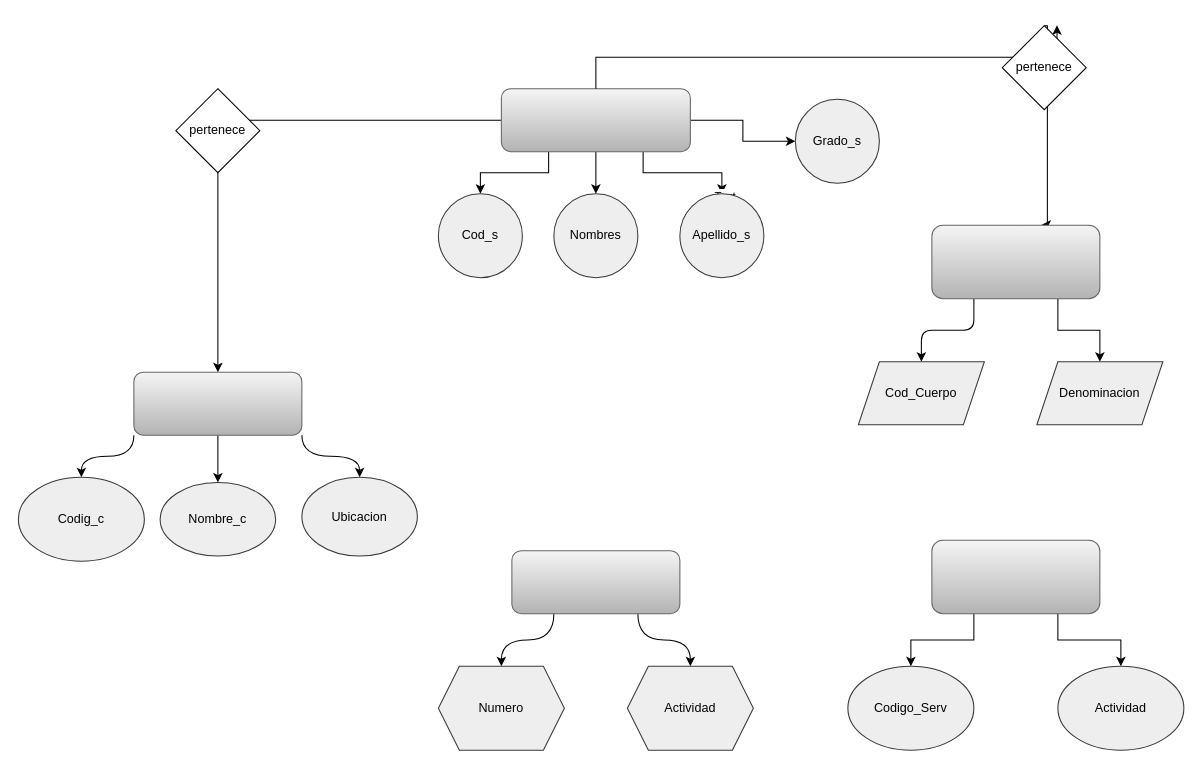
The diagram is 1202 pixels wide and 770 high, and some of its shapes have lost their labels. The box of each missing label's shape, as (x1, y1, x2, y2) in pixels:
COMPAÑIA: (511, 550, 680, 614)
CUARTELES: (133, 371, 302, 435)
CUERPO_E: (931, 224, 1100, 299)
SENIL: (931, 539, 1100, 614)
SOLDADO: (500, 88, 690, 152)
